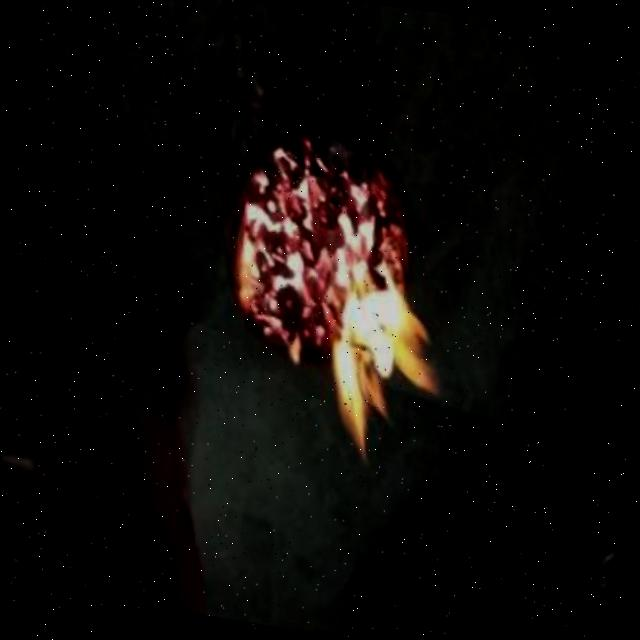fire: (289, 257, 475, 503), (200, 147, 348, 400), (287, 123, 431, 291)
